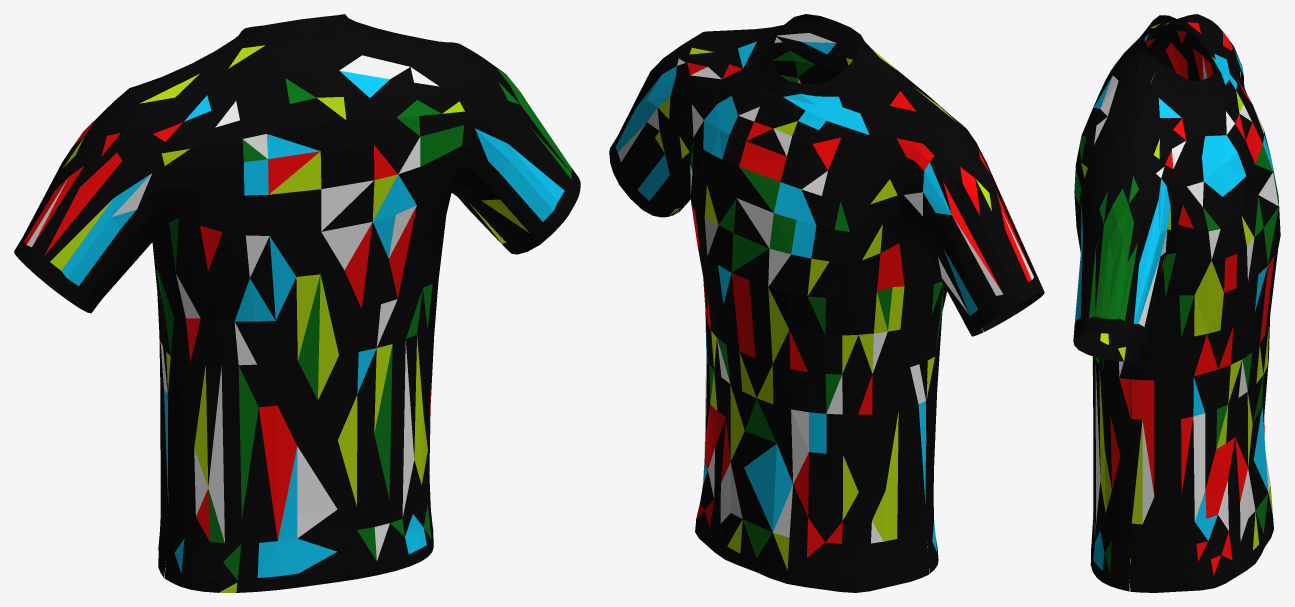
File: Shirt.obj
3 views of the same model, side by side, from view 1: azimuth 30°, elevation 25°; view 2: azimuth 150°, elevation 25°; view 3: azimuth 270°, elevation 25° (orthographic). The views are drawn at different scales.
Visible parts, largest first — view 1: Shirt; view 2: Shirt; view 3: Shirt.
Boxes of the visible parts, left/top/right/bottom form: Shirt: left=14, top=14, right=580, bottom=592; Shirt: left=609, top=14, right=1044, bottom=592; Shirt: left=1073, top=14, right=1280, bottom=592.
Bounding box in the file's own units: 0.9675 × 1 × 0.3696.
